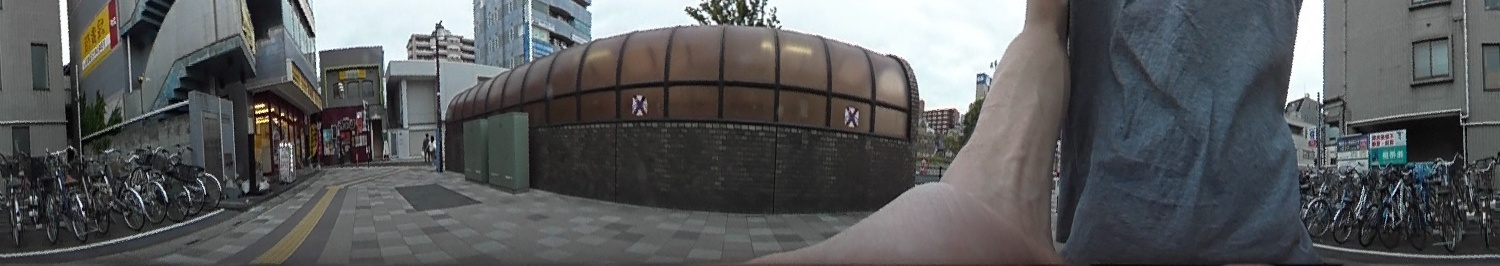difficult_person: (421, 133, 430, 164), (429, 133, 437, 162)
